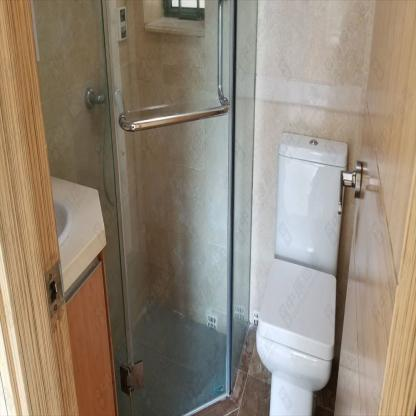Toilet: (254, 132, 348, 413)
Toilet Sink: (54, 200, 68, 243)
Water Cubicle: (29, 0, 259, 415)
